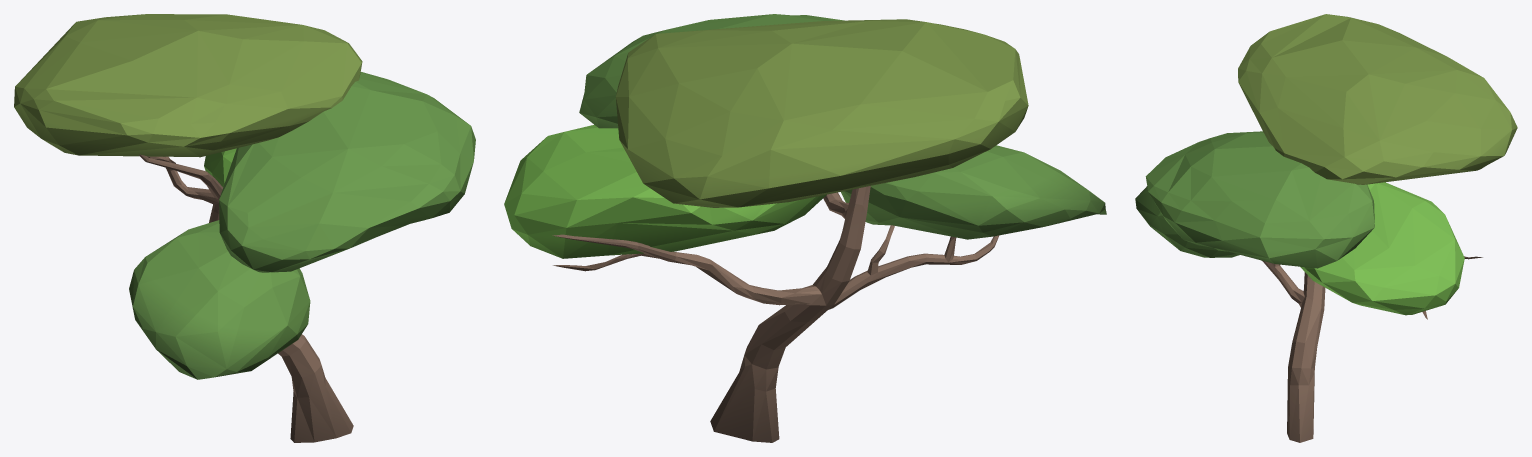
The model's file is JungleTree_Med_B.fbx.
The picture shows the model from 3 angles, left to right: view 1: azimuth 30°, elevation 25°; view 2: azimuth 150°, elevation 25°; view 3: azimuth 270°, elevation 25°; orthographic projection. The views are drawn at different scales.
Visible parts, largest first — view 1: JungleTree_Med_B; view 2: JungleTree_Med_B; view 3: JungleTree_Med_B.
Part boxes in pixels (x1=…): JungleTree_Med_B: x1=14, y1=14, x2=475, y2=442; JungleTree_Med_B: x1=504, y1=14, x2=1106, y2=442; JungleTree_Med_B: x1=1135, y1=14, x2=1517, y2=442.
Size of the model in its own units: 13.02 by 11.76 by 12.52.
